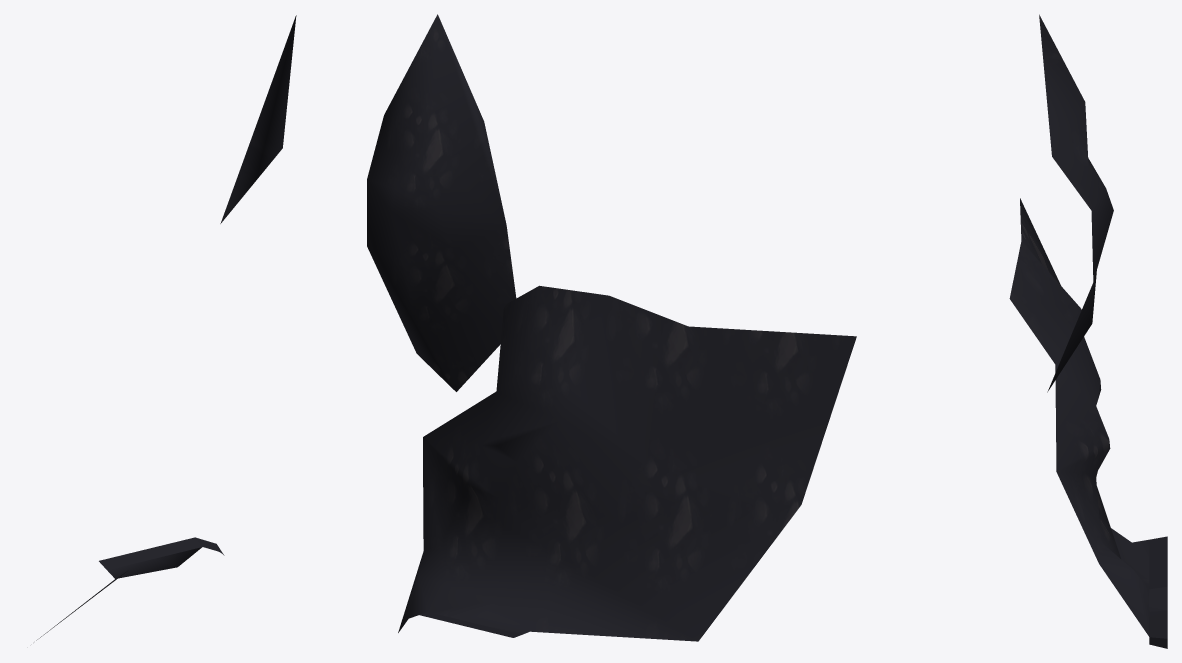
The model's file is ceiling_curve_east.glb.
3 views of the same model, side by side, from view 1: azimuth 30°, elevation 25°; view 2: azimuth 150°, elevation 25°; view 3: azimuth 270°, elevation 25° (orthographic). The views are drawn at different scales.
Parts seen in each view (by area): view 1: arcade.ceiling_curve_east-Mesh[0]; view 2: arcade.ceiling_curve_east-Mesh[0]; view 3: arcade.ceiling_curve_east-Mesh[0].
Part boxes in pixels (x1=…): arcade.ceiling_curve_east-Mesh[0]: x1=36, y1=15, x2=296, y2=640; arcade.ceiling_curve_east-Mesh[0]: x1=367, y1=14, x2=856, y2=641; arcade.ceiling_curve_east-Mesh[0]: x1=1009, y1=14, x2=1167, y2=648.
Bounding box in the file's own units: 13.66 × 19.43 × 7.79.
1 material, 1 textured.
